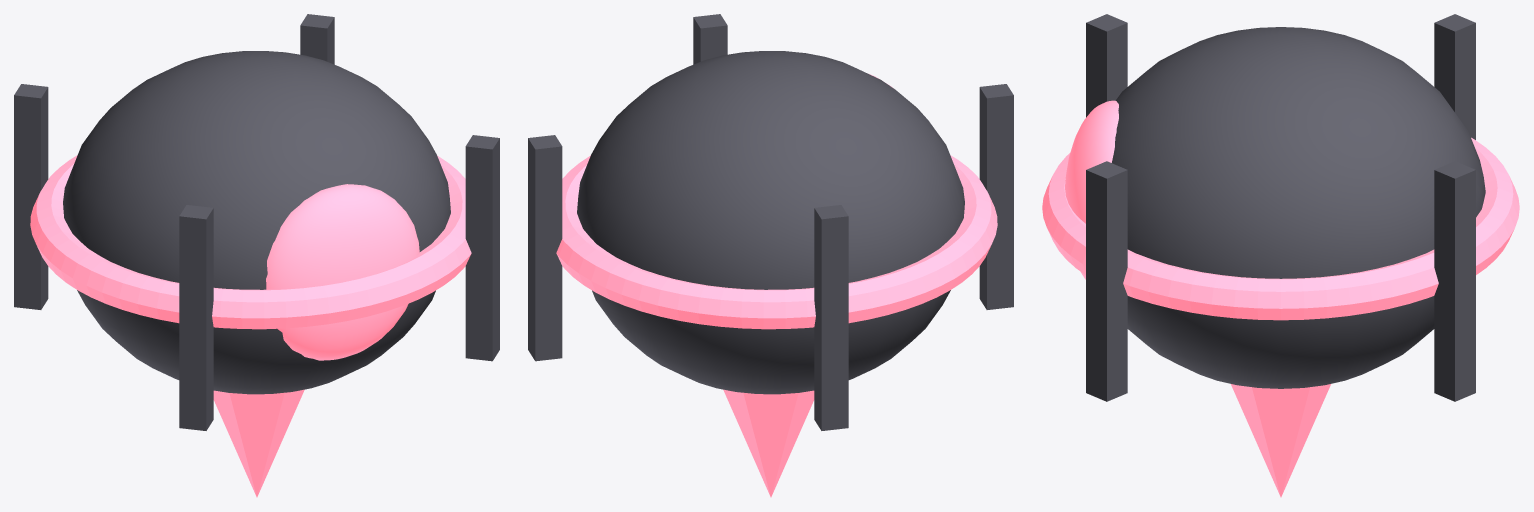
Rendered from drone.glb.
3 renders of one model, left to right at view 1: azimuth 30°, elevation 25°; view 2: azimuth 150°, elevation 25°; view 3: azimuth 270°, elevation 25°, orthographic. The views are drawn at different scales.
Parts seen in each view (by area): view 1: Sphere; view 2: Sphere; view 3: Sphere.
Part boxes in pixels (<box>): Sphere: <box>14,14,499,497</box>; Sphere: <box>528,14,1013,497</box>; Sphere: <box>1042,14,1519,497</box>.
Size of the model in its own units: 0.97 by 1.01 by 0.97.
